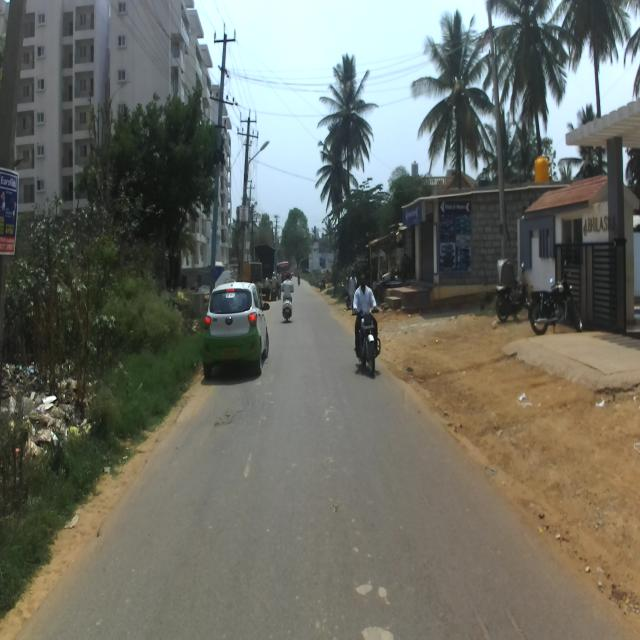car ahead at: (202, 283, 272, 377)
motorcycle ahead at: (526, 278, 584, 338), (353, 306, 386, 378)
